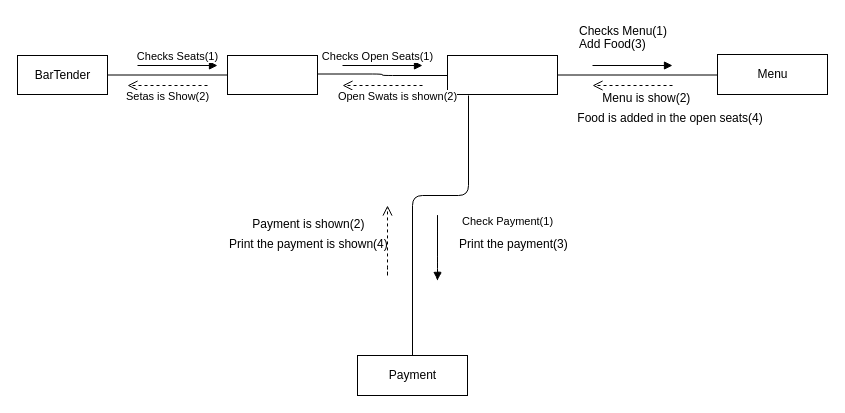
This 845x413 diagram has some shape labels left out. Here are the shapes that lost their labels. From the top down, the box of each, then its label:
(226, 54, 318, 94): Seats
(446, 54, 558, 94): Open Seats
